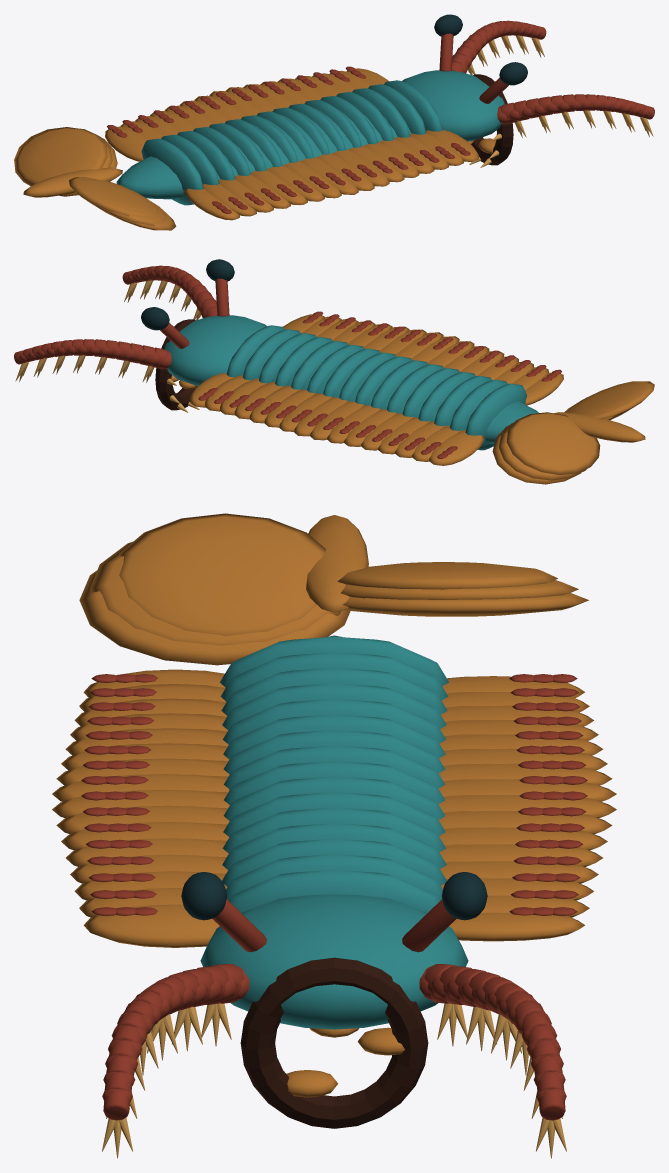
The model's file is Anomalocaris_canadensis_v01.fbx.
3 views of the same model, one above another, from view 1: azimuth 30°, elevation 25°; view 2: azimuth 150°, elevation 25°; view 3: azimuth 270°, elevation 25° (orthographic). The views are drawn at different scales.
Visible parts, largest first — view 1: Head_Plate, Tail_Blade_1_R, Body_Core, Tail_Blade_1_L, Segment_01, Tail_Central_Blade, Triradial_Oral_Cone, Segment_16, Segment_02, Segment_15, Segment_03, Segment_14 (+45 smaller); view 2: Tail_Blade_1_R, Head_Plate, Body_Core, Tail_Blade_1_L, Segment_01, Tail_Central_Blade, Flap_01_R, Triradial_Oral_Cone, Segment_16, Segment_02, Segment_15, Segment_03 (+45 smaller); view 3: Tail_Blade_1_L, Head_Plate, Triradial_Oral_Cone, Tail_Blade_3_L, Segment_16, Tail_Blade_1_R, Tail_Blade_2_L, Flap_16_L, Tail_Central_Blade, Tail_Blade_3_R, Segment_01, Segment_02 (+51 smaller).
Part boxes in pixels (<box>): Head_Plate: <box>402,70,504,141</box>; Tail_Blade_1_R: <box>14,127,107,185</box>; Body_Core: <box>116,108,411,199</box>; Tail_Blade_1_L: <box>69,177,158,216</box>; Segment_01: <box>141,138,203,205</box>; Tail_Central_Blade: <box>23,167,122,197</box>; Triradial_Oral_Cone: <box>471,74,513,165</box>; Segment_16: <box>384,80,442,131</box>; Segment_02: <box>161,134,219,185</box>; Segment_15: <box>368,84,426,134</box>; Segment_03: <box>177,131,234,180</box>; Segment_14: <box>352,88,410,137</box>; Tail_Blade_1_R: <box>506,412,600,474</box>; Head_Plate: <box>164,315,266,385</box>; Body_Core: <box>257,353,538,444</box>; Tail_Blade_1_L: <box>567,382,654,419</box>; Segment_01: <box>465,383,526,450</box>; Tail_Central_Blade: <box>554,412,645,442</box>; Flap_01_R: <box>429,430,484,465</box>; Triradial_Oral_Cone: <box>155,319,195,410</box>; Segment_16: <box>226,325,284,377</box>; Segment_02: <box>449,379,507,430</box>; Segment_15: <box>242,329,300,380</box>; Segment_03: <box>434,376,491,426</box>; Tail_Blade_1_L: <box>118,513,325,636</box>; Head_Plate: <box>200,894,468,1029</box>; Triradial_Oral_Cone: <box>240,957,428,1128</box>; Tail_Blade_3_L: <box>79,570,350,665</box>; Segment_16: <box>228,869,440,912</box>; Tail_Blade_1_R: <box>337,562,557,589</box>; Tail_Blade_2_L: <box>90,541,341,645</box>; Flap_16_L: <box>83,904,219,947</box>; Tail_Central_Blade: <box>306,515,368,612</box>; Tail_Blade_3_R: <box>343,593,588,616</box>; Segment_01: <box>219,636,449,687</box>; Segment_02: <box>220,652,448,701</box>.
Bounding box in the file's own units: 0.3472 × 0.0715 × 0.1476.
